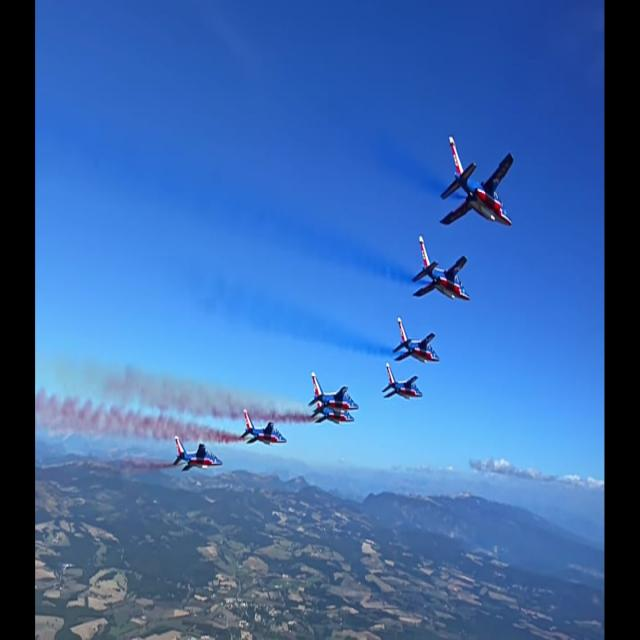iha: (308, 373, 359, 428), (393, 316, 439, 365), (172, 427, 223, 469), (231, 407, 282, 449), (381, 364, 423, 404), (411, 259, 472, 264), (475, 167, 480, 196)
